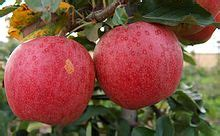apple: (93, 19, 186, 110), (3, 36, 95, 127)
